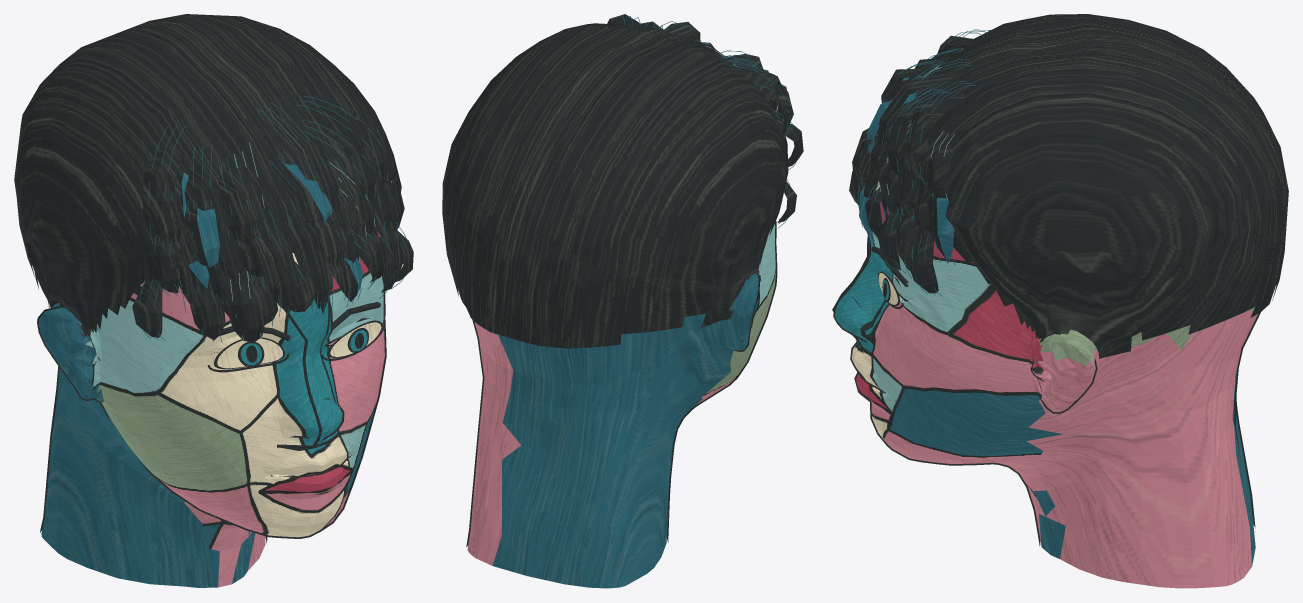
File: head-cubist.glb
3 views of the same model, side by side, from view 1: azimuth 30°, elevation 25°; view 2: azimuth 150°, elevation 25°; view 3: azimuth 270°, elevation 25° (orthographic). The views are drawn at different scales.
Parts seen in each view (by area): view 1: Personal head · asymmetrical painted planes, Hair · original scalp silhouette, Hair · painted lock 12, Personal head · asymmetrical painted planes · ink silhouette, Hair · painted lock 11, Hair · painted lock 17, Hair · painted lock 03, Hair · painted lock 39, Hair · painted lock 09, Hair · painted lock 37, Hair · painted lock 24, Hair · painted lock 32 (+25 smaller); view 2: Hair · original scalp silhouette, Personal head · asymmetrical painted planes, Personal head · asymmetrical painted planes · ink silhouette, Hair · original scalp silhouette · ink silhouette, Hair · painted lock 39, Hair · painted lock 20; view 3: Hair · original scalp silhouette, Personal head · asymmetrical painted planes, Personal head · asymmetrical painted planes · ink silhouette, Hair · painted lock 03, Hair · original scalp silhouette · ink silhouette, Hair · painted lock 12, Hair · painted lock 27, Hair · painted lock 08, Hair · painted lock 37, Hair · painted lock 01, Hair · painted lock 35, Hair · painted lock 22 (+3 smaller).
Boxes of the visible parts, bbox=[...] form: Personal head · asymmetrical painted planes: bbox=[38, 231, 384, 587]; Hair · original scalp silhouette: bbox=[16, 15, 399, 337]; Hair · painted lock 12: bbox=[272, 118, 340, 211]; Personal head · asymmetrical painted planes · ink silhouette: bbox=[37, 286, 386, 543]; Hair · painted lock 11: bbox=[219, 164, 258, 242]; Hair · painted lock 17: bbox=[257, 224, 298, 312]; Hair · painted lock 03: bbox=[311, 107, 387, 183]; Hair · painted lock 39: bbox=[143, 145, 182, 241]; Hair · painted lock 09: bbox=[225, 270, 264, 342]; Hair · painted lock 37: bbox=[312, 132, 376, 200]; Hair · painted lock 24: bbox=[281, 163, 332, 226]; Hair · painted lock 32: bbox=[182, 208, 220, 267]; Hair · original scalp silhouette: bbox=[444, 25, 786, 348]; Personal head · asymmetrical painted planes: bbox=[467, 224, 775, 588]; Personal head · asymmetrical painted planes · ink silhouette: bbox=[466, 220, 777, 549]; Hair · original scalp silhouette · ink silhouette: bbox=[442, 23, 788, 295]; Hair · painted lock 39: bbox=[740, 69, 791, 134]; Hair · painted lock 20: bbox=[778, 120, 803, 166]; Hair · original scalp silhouette: bbox=[900, 15, 1287, 358]; Personal head · asymmetrical painted planes: bbox=[835, 182, 1257, 588]; Personal head · asymmetrical painted planes · ink silhouette: bbox=[833, 232, 1260, 546]; Hair · painted lock 03: bbox=[905, 92, 965, 184]; Hair · original scalp silhouette · ink silhouette: bbox=[933, 14, 1288, 337]; Hair · painted lock 12: bbox=[877, 70, 956, 146]; Hair · painted lock 27: bbox=[924, 142, 954, 198]; Hair · painted lock 08: bbox=[926, 194, 954, 262]; Hair · painted lock 37: bbox=[885, 98, 938, 176]; Hair · painted lock 01: bbox=[908, 239, 938, 293]; Hair · painted lock 35: bbox=[895, 213, 919, 271]; Hair · painted lock 22: bbox=[897, 159, 925, 217].
Size of the model in its own units: 0.1723 by 0.2646 by 0.216.
Materials: 9 (9 with a texture image).
